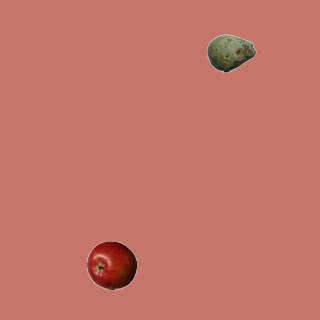Apple Braeburn: (86, 240, 136, 290)
Pear Stone: (206, 28, 256, 78)
